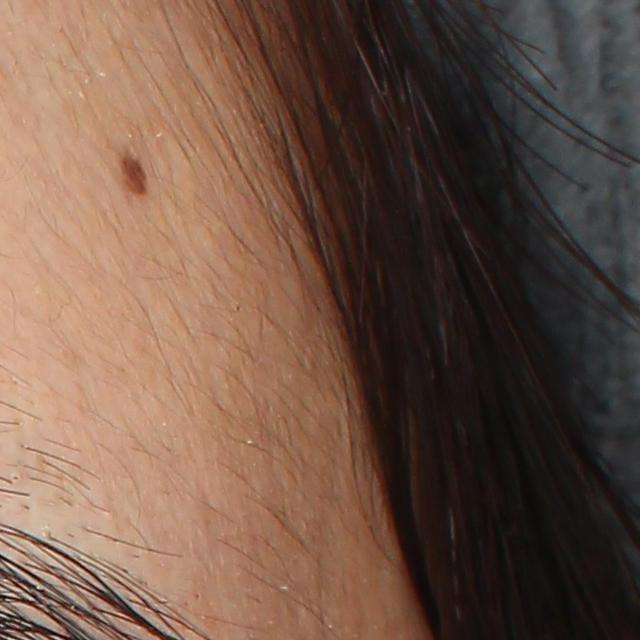nevus: (114, 147, 150, 200)
